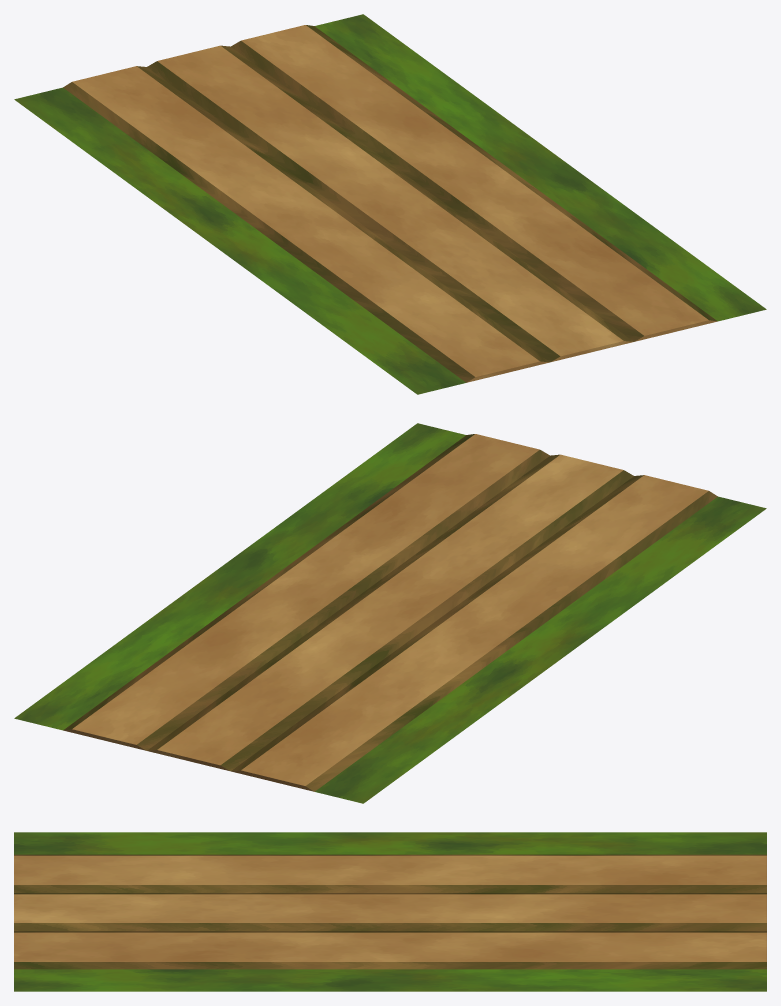
Rendered from Escenario.fbx.
The picture shows the model from 3 angles, top to bottom: view 1: azimuth 30°, elevation 25°; view 2: azimuth 150°, elevation 25°; view 3: azimuth 270°, elevation 25°; orthographic projection. The views are drawn at different scales.
Visible parts, largest first — view 1: Plane; view 2: Plane; view 3: Plane.
Part boxes in pixels (x1,y1,x2,y2): Plane: (14, 14, 766, 394); Plane: (14, 423, 766, 803); Plane: (14, 832, 766, 991).
Bounding box in the file's own units: 1000 × 9.54 × 2000.
Materials: 3 (3 with a texture image).
